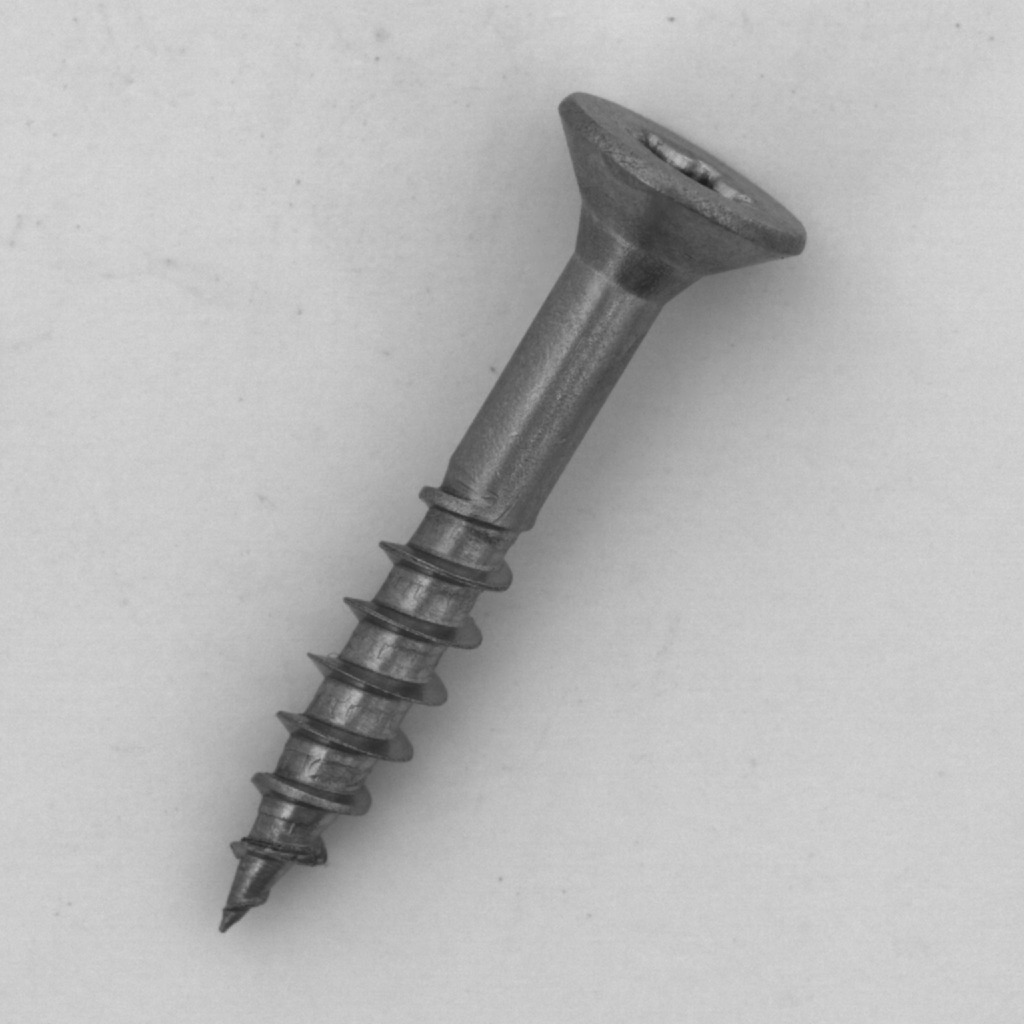good: (196, 75, 830, 949)
